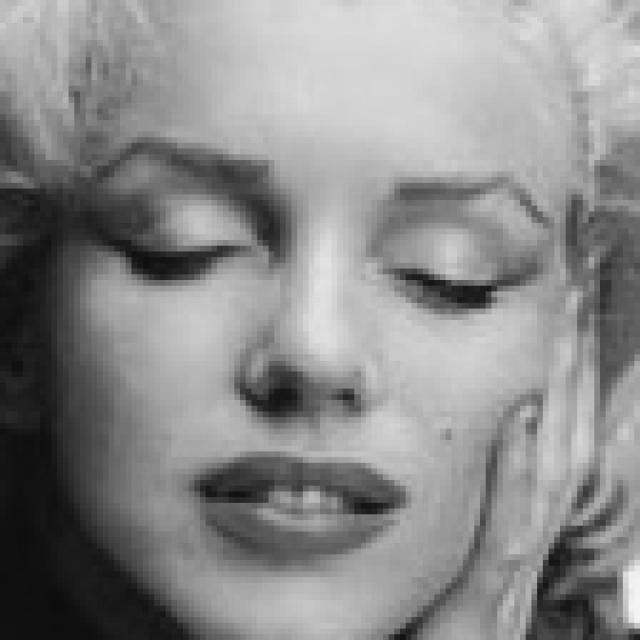real: (32, 24, 520, 640), (100, 156, 561, 333)
